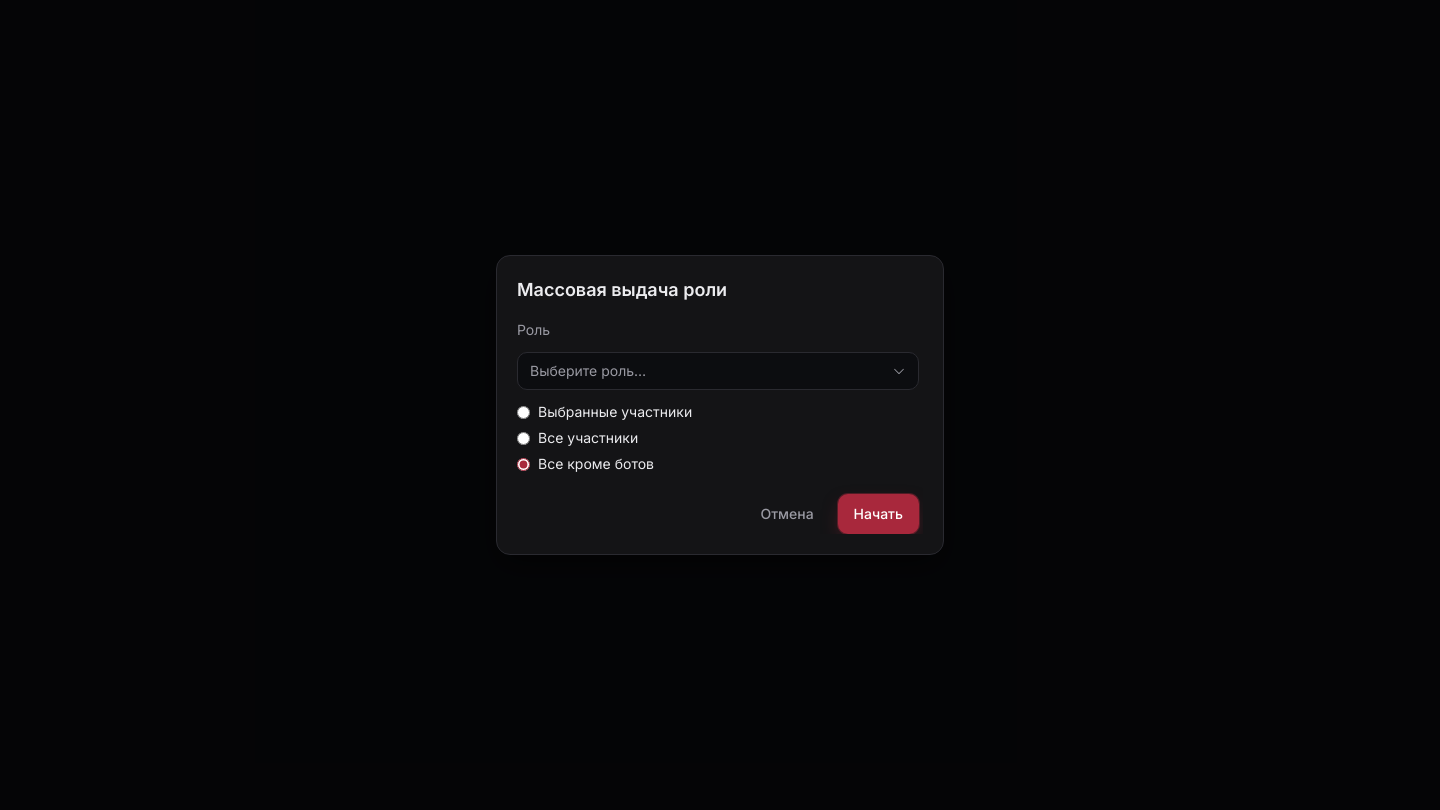
Scenario: MassAssignModal › requires at least one selected member for target=selected
The width and height of the screenshot is (1440, 810).
Click the button labelled "Выберите роль…".
click(588, 370)  # box 517,352 -> 919,390
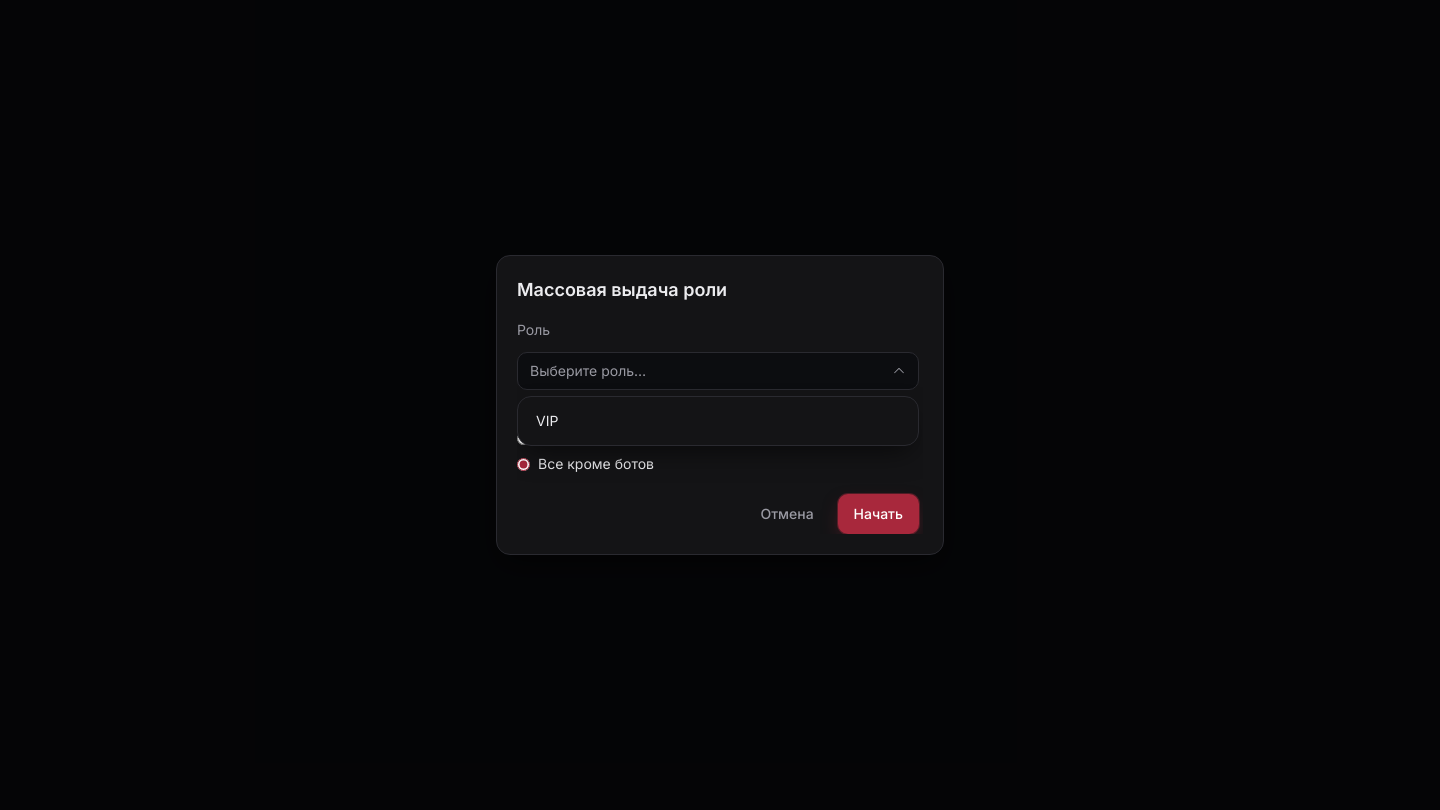
Click the option "VIP".
click(547, 420)  # box 524,403 -> 912,439
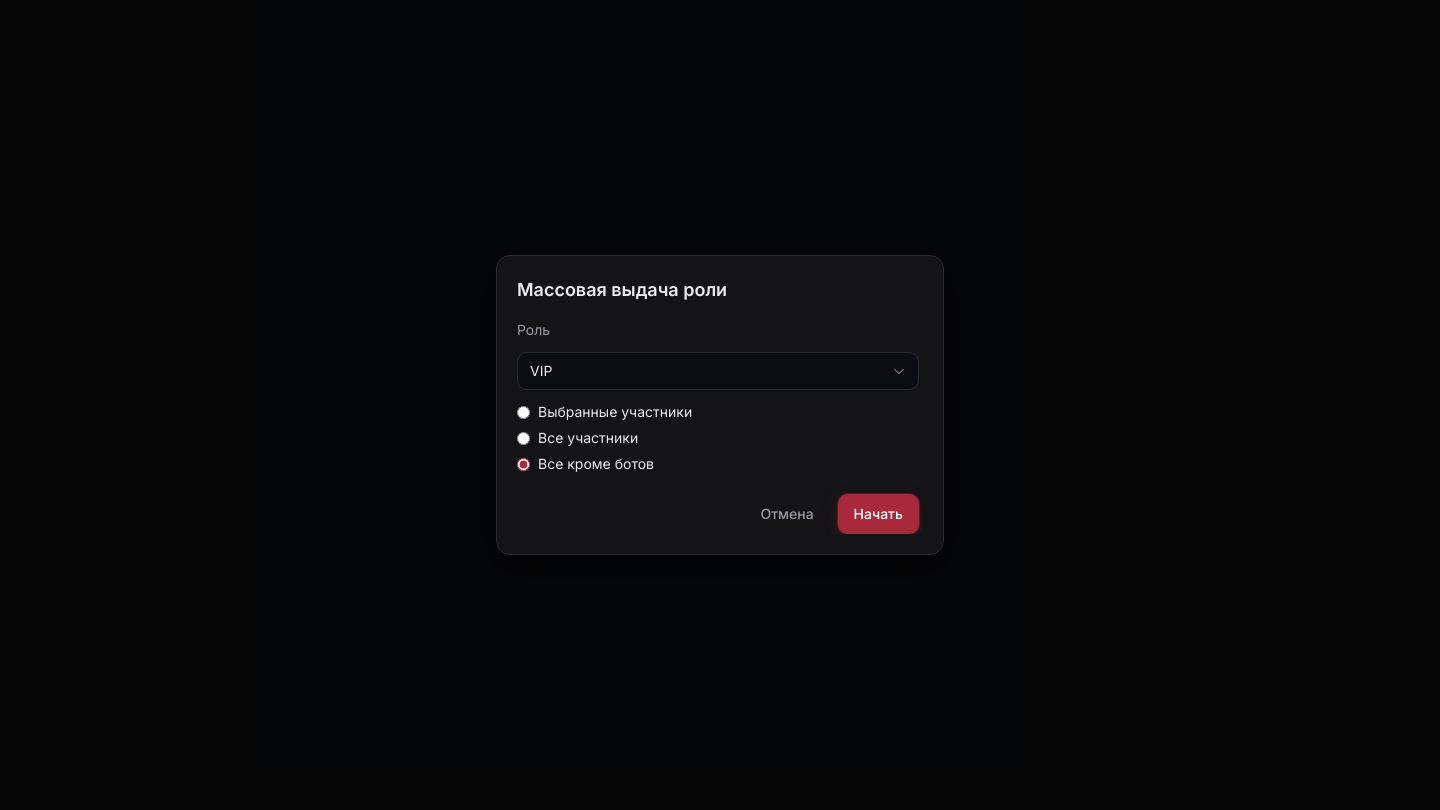
Click the radio button labelled "Выбранные участники".
click(524, 412)  # box 517,406 -> 530,418
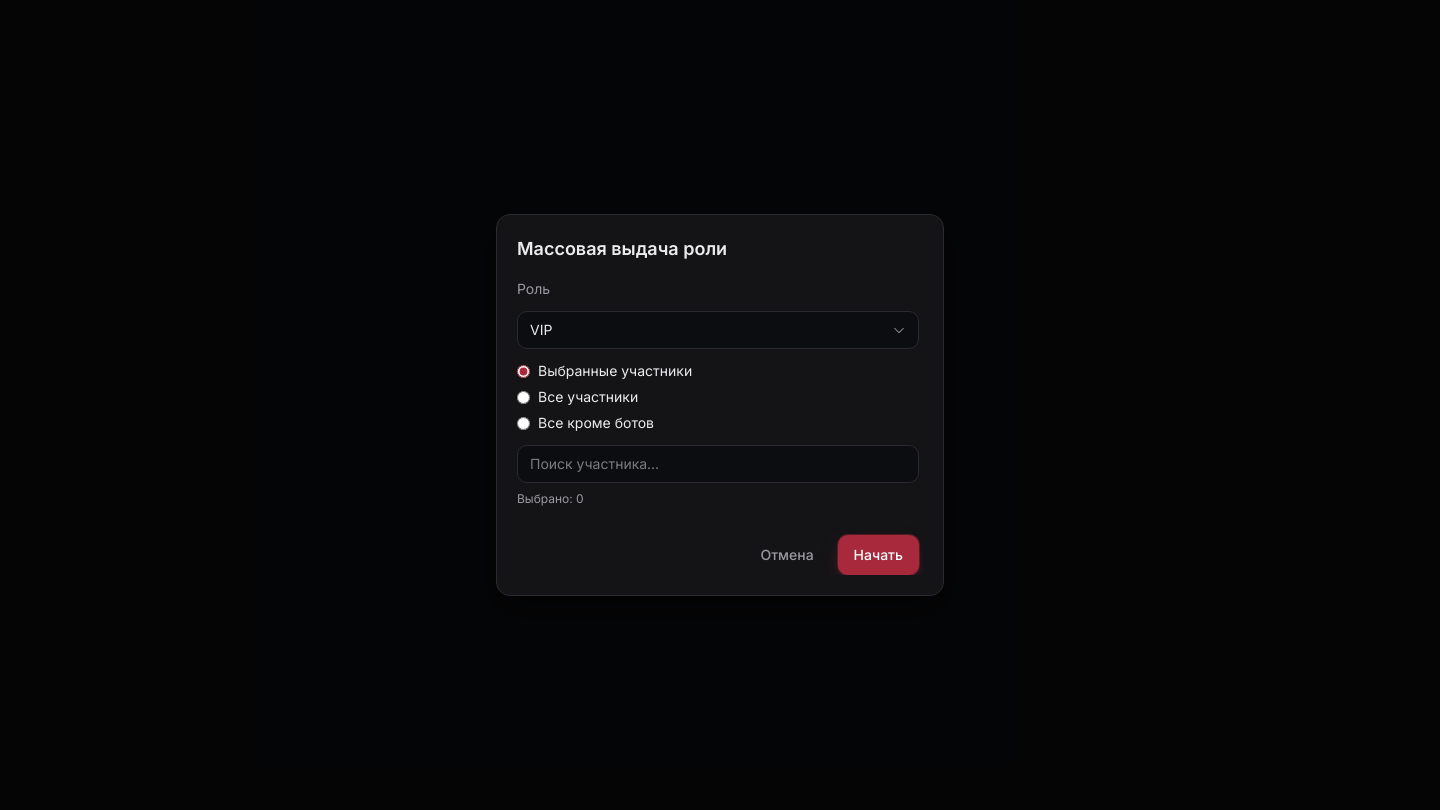
Click the button "Начать".
click(878, 555)  # box 838,535 -> 919,575
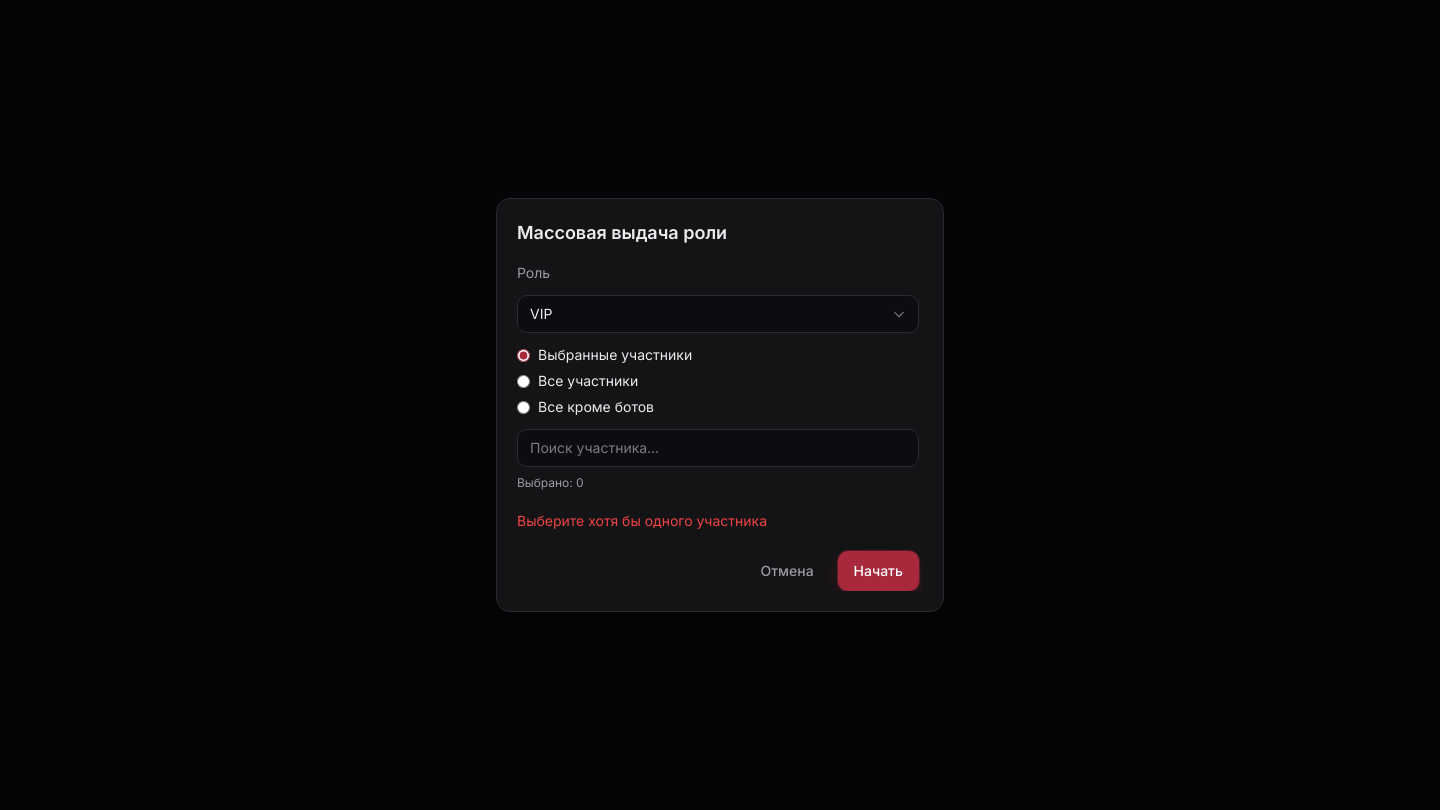
Check: the text "Выберите хотя бы одного участника" is shown, box 517,512 -> 767,529
